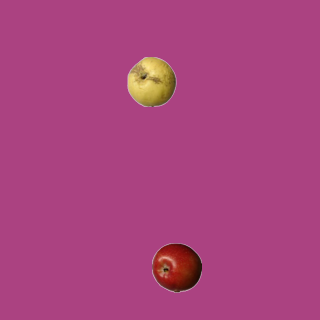Apple Braeburn: (151, 242, 201, 292)
Apple Golden 1: (126, 56, 176, 106)
